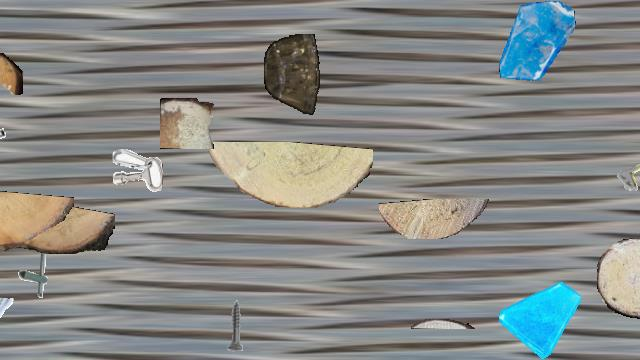glass: (499, 277, 581, 359), (497, 1, 577, 81)
metal: (208, 298, 262, 352), (10, 247, 62, 299), (112, 147, 162, 197), (613, 141, 640, 201), (0, 297, 16, 347), (0, 99, 10, 153)
plastic: (264, 34, 320, 116)
wood: (202, 142, 372, 208), (0, 202, 114, 254), (0, 190, 74, 252), (379, 199, 491, 239), (597, 238, 640, 318), (160, 98, 214, 148), (0, 52, 22, 96), (411, 319, 475, 329)
